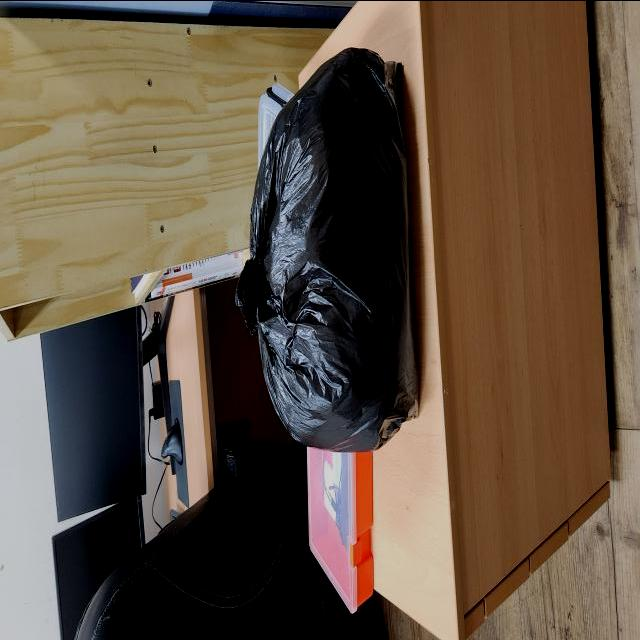black_bag: (233, 46, 423, 448)
